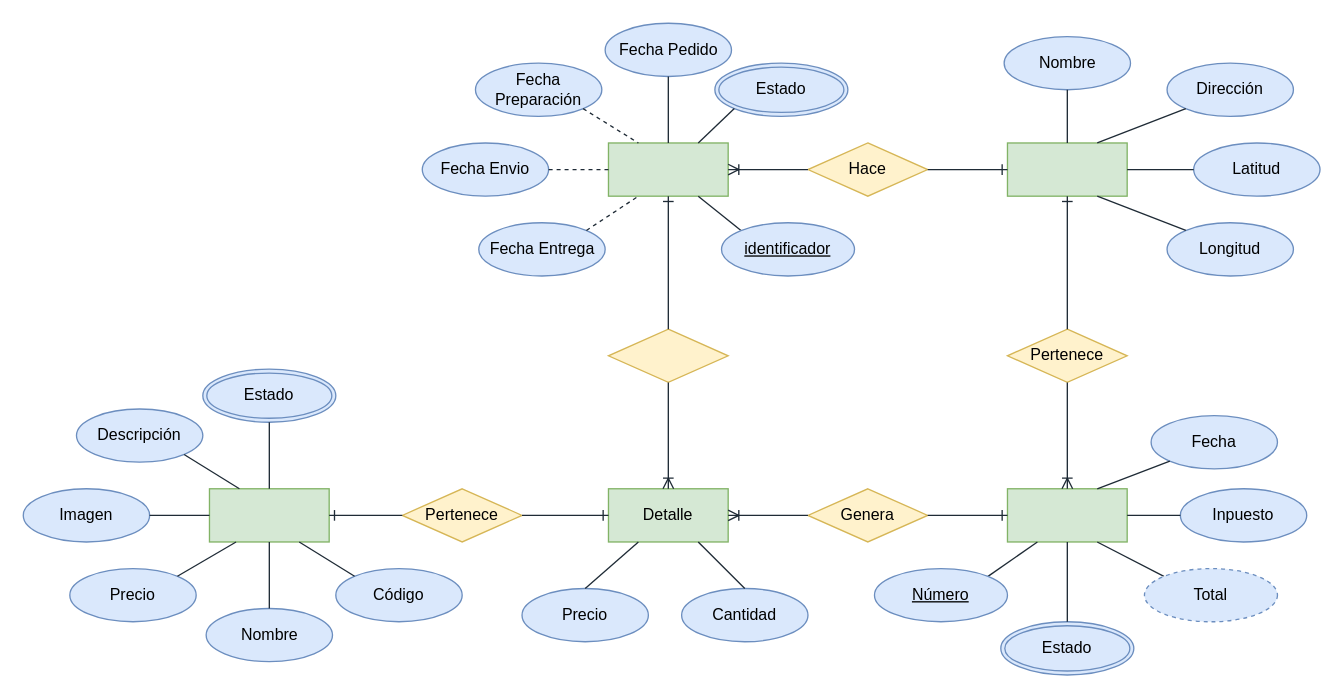
Some shapes in this 1343 by 698 pixel diagram are drawn without their labels. The centre of each missing label's shape, as x and y in pixels:
"Cliente" belongs at (1066,169).
"Factura" belongs at (1066,514).
"Pedido" belongs at (667,169).
"Producto" belongs at (268,514).
"Tiene" belongs at (667,355).
